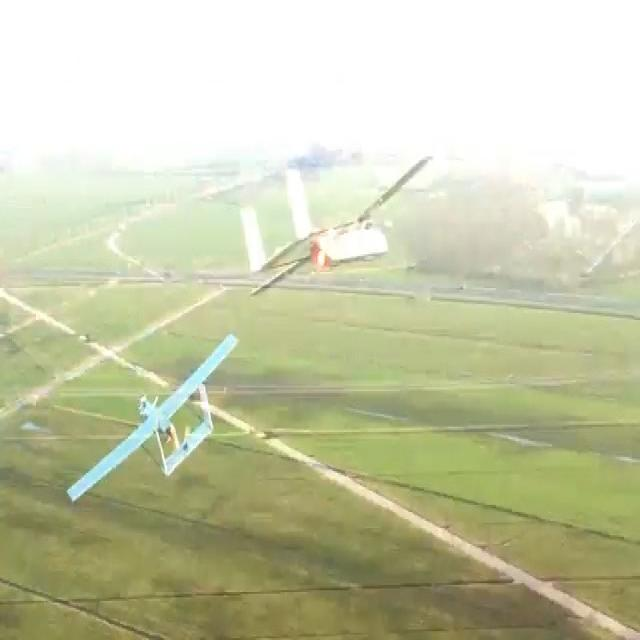iha: (66, 333, 247, 506)
